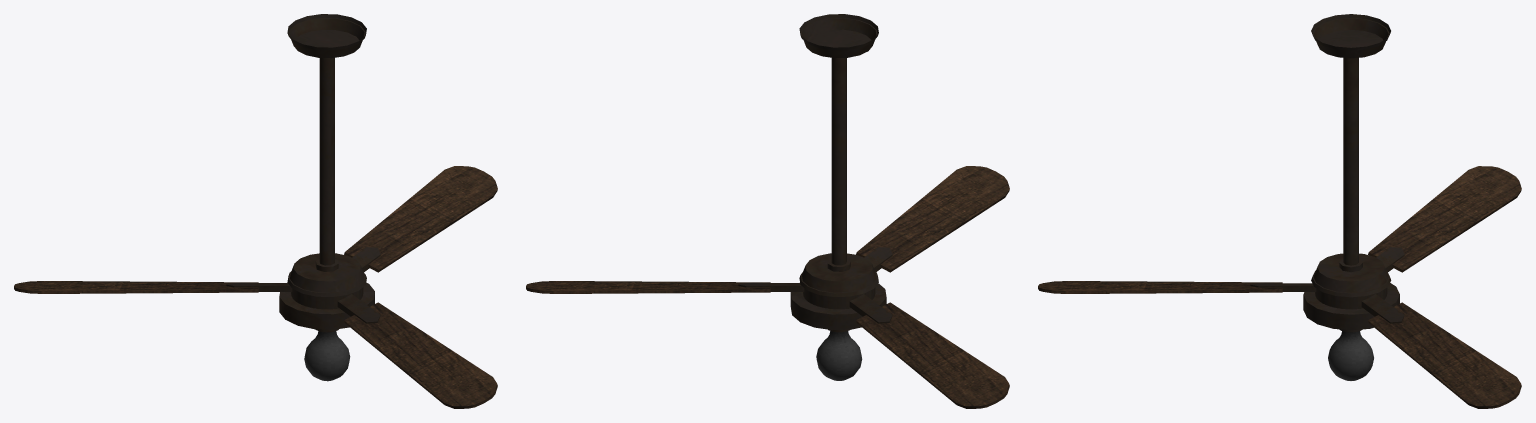
File: ceiling_fan_mp_1_1_light_off.dae
The picture shows the model from 3 angles, left to right: view 1: azimuth 30°, elevation 25°; view 2: azimuth 150°, elevation 25°; view 3: azimuth 270°, elevation 25°; orthographic projection.
Visible parts, largest first — view 1: ceiling_fan_mp_1_1_light_off_blades, ceiling_fan_mp_1_1_light_off; view 2: ceiling_fan_mp_1_1_light_off_blades, ceiling_fan_mp_1_1_light_off; view 3: ceiling_fan_mp_1_1_light_off_blades, ceiling_fan_mp_1_1_light_off.
Boxes of the visible parts, x1,y1,x2,y2 form: ceiling_fan_mp_1_1_light_off_blades: (14, 166, 497, 408); ceiling_fan_mp_1_1_light_off: (279, 14, 374, 381); ceiling_fan_mp_1_1_light_off_blades: (526, 166, 1009, 408); ceiling_fan_mp_1_1_light_off: (790, 14, 886, 380); ceiling_fan_mp_1_1_light_off_blades: (1038, 166, 1521, 408); ceiling_fan_mp_1_1_light_off: (1303, 14, 1399, 380).
Bounding box in the file's own units: 1.02 × 0.8979 × 0.7128.
Materials: 3 (3 with a texture image).
